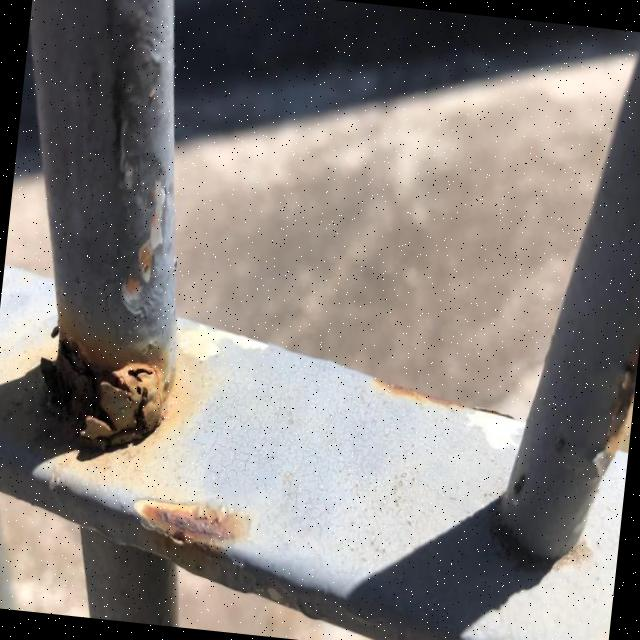Corrosion: (0, 0, 216, 455), (30, 331, 172, 456), (129, 494, 250, 552)
